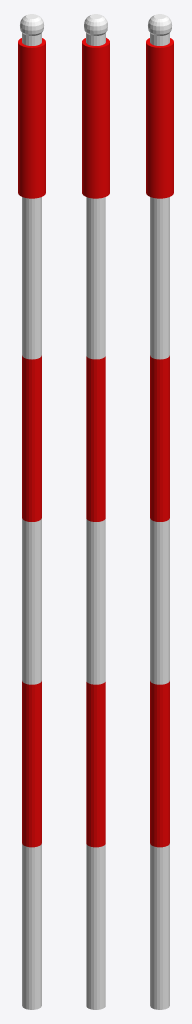
Rendered from flag.obj.
The picture shows the model from 3 angles, left to right: view 1: azimuth 90°, elevation 25°; view 2: azimuth 150°, elevation 25°; view 3: azimuth 270°, elevation 25°; orthographic projection.
Visible parts, largest first — view 1: flag1; view 2: flag1; view 3: flag1.
Boxes of the visible parts, box(x1,y1,x2,y2) form: flag1: box(18, 14, 45, 1009); flag1: box(82, 14, 109, 1009); flag1: box(146, 14, 173, 1009).
Bounding box in the file's own units: 0.1286 × 4.98 × 0.1286.
